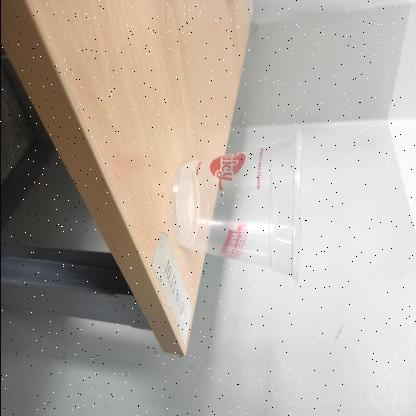Others: (172, 129, 302, 292)
